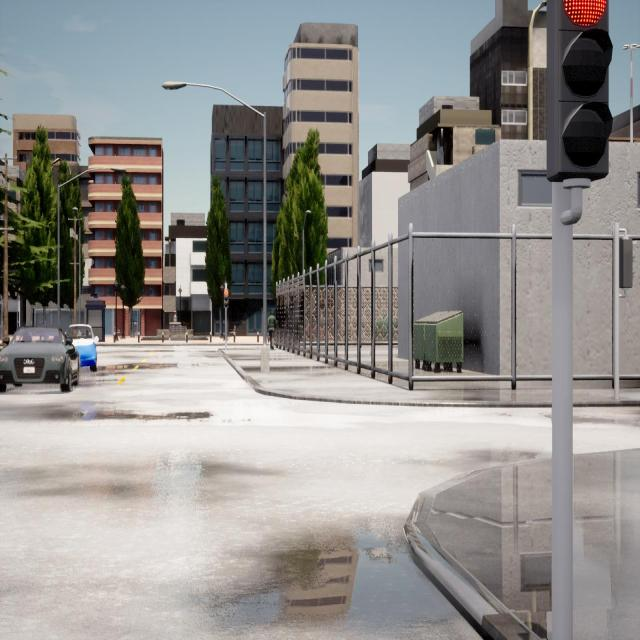Pedestrian: (267, 311, 277, 348)
Vehicle: (0, 326, 79, 391), (66, 324, 96, 370)
traffic_light: (547, 0, 609, 177), (620, 239, 632, 287), (224, 290, 229, 306)
